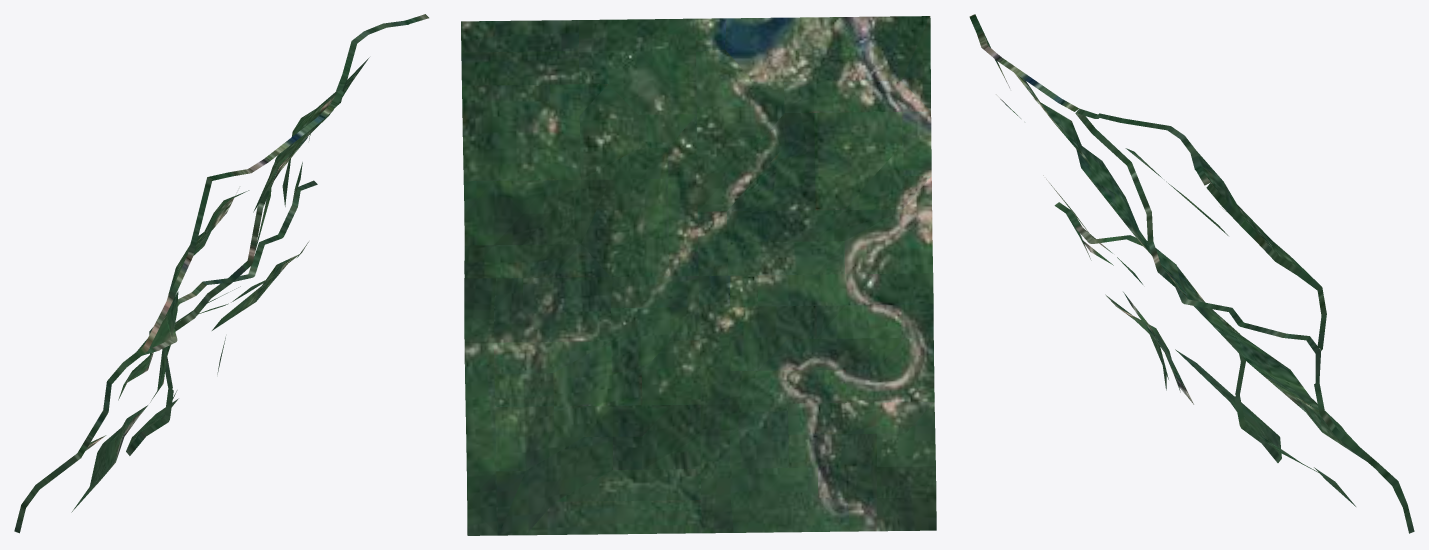
3 renders of one model, left to right at view 1: azimuth 30°, elevation 25°; view 2: azimuth 150°, elevation 25°; view 3: azimuth 270°, elevation 25°, orthographic. The views are drawn at different scales.
Bounding box in the file's own units: 4998 × 4590 × 4316.
Materials: 1 (1 with a texture image).
